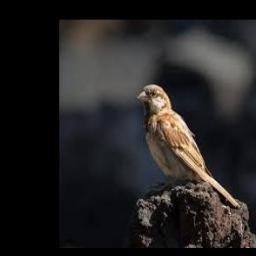Sparrow: (137, 83, 240, 209)
